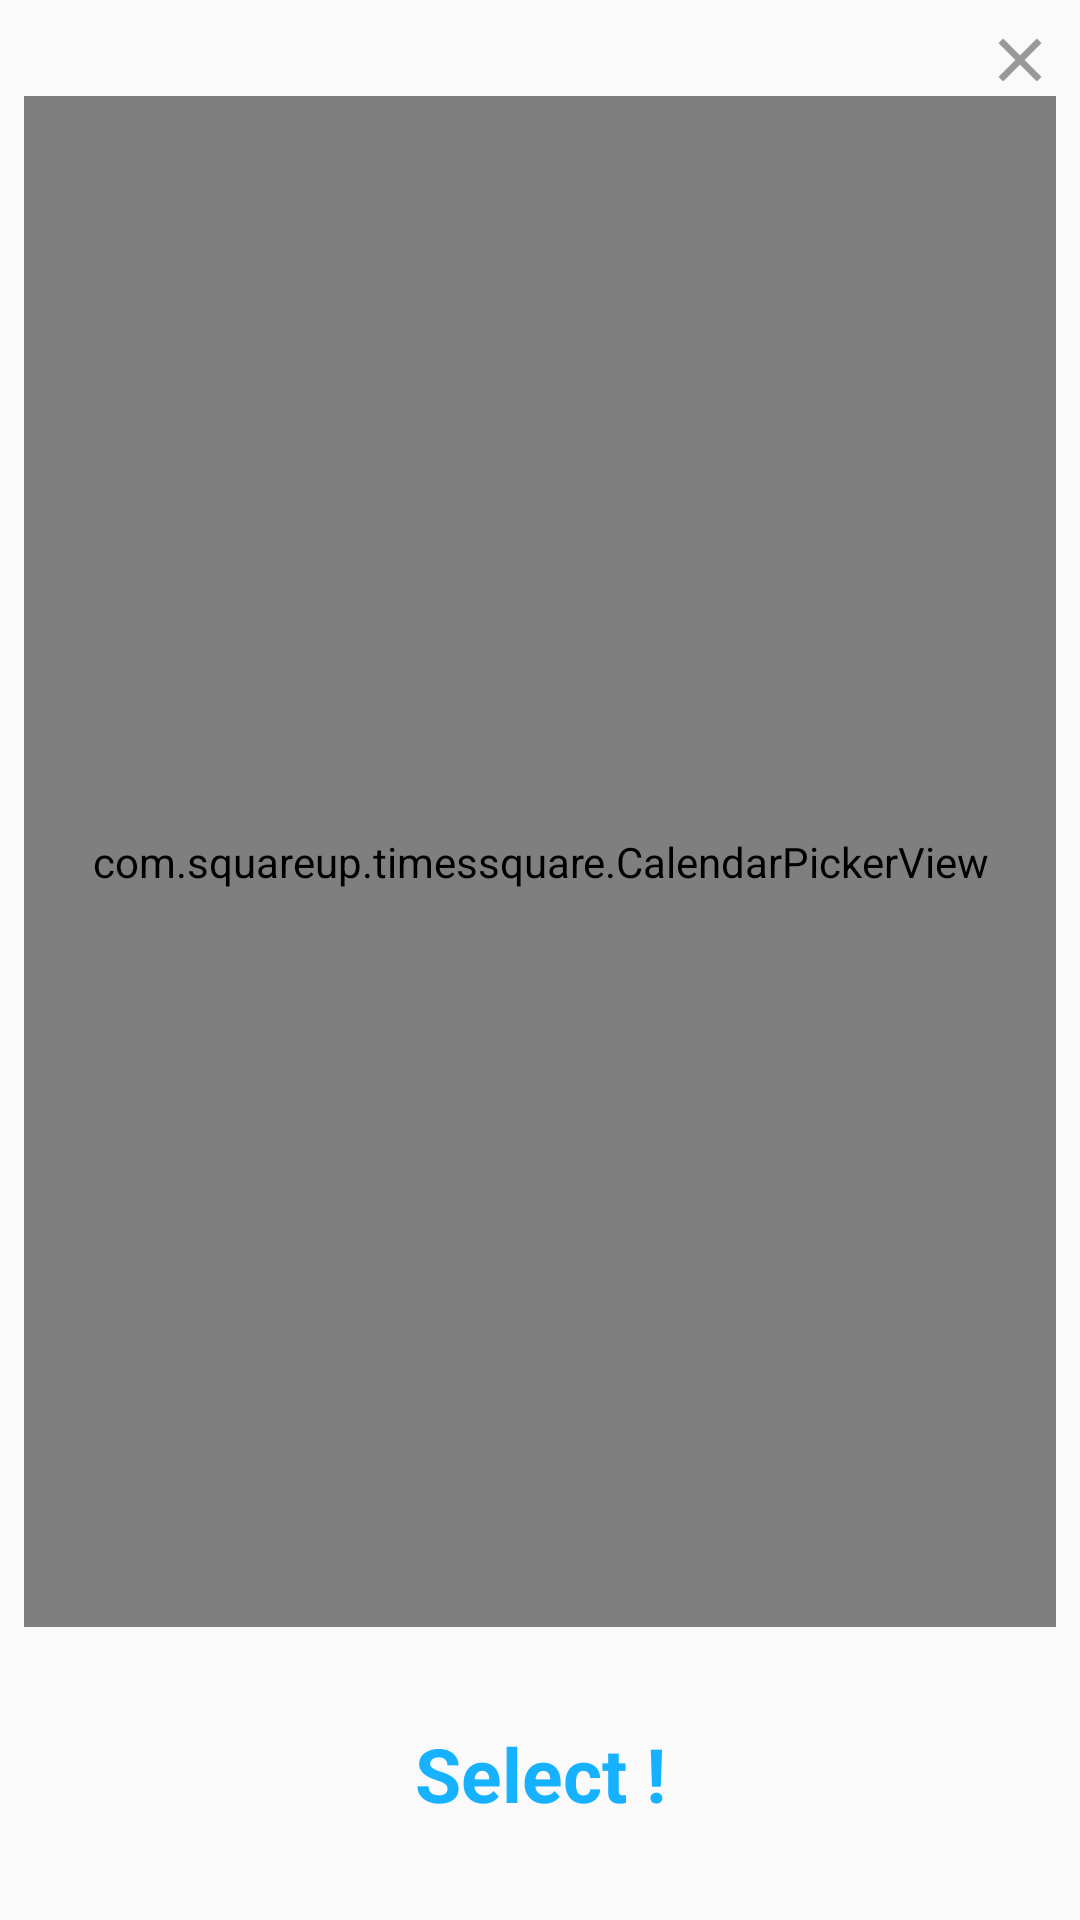

Screen size 1080px x 1920px. Icon name, then its center in pixels as (x=x, y=y):
cancel: (x=1019, y=60)
